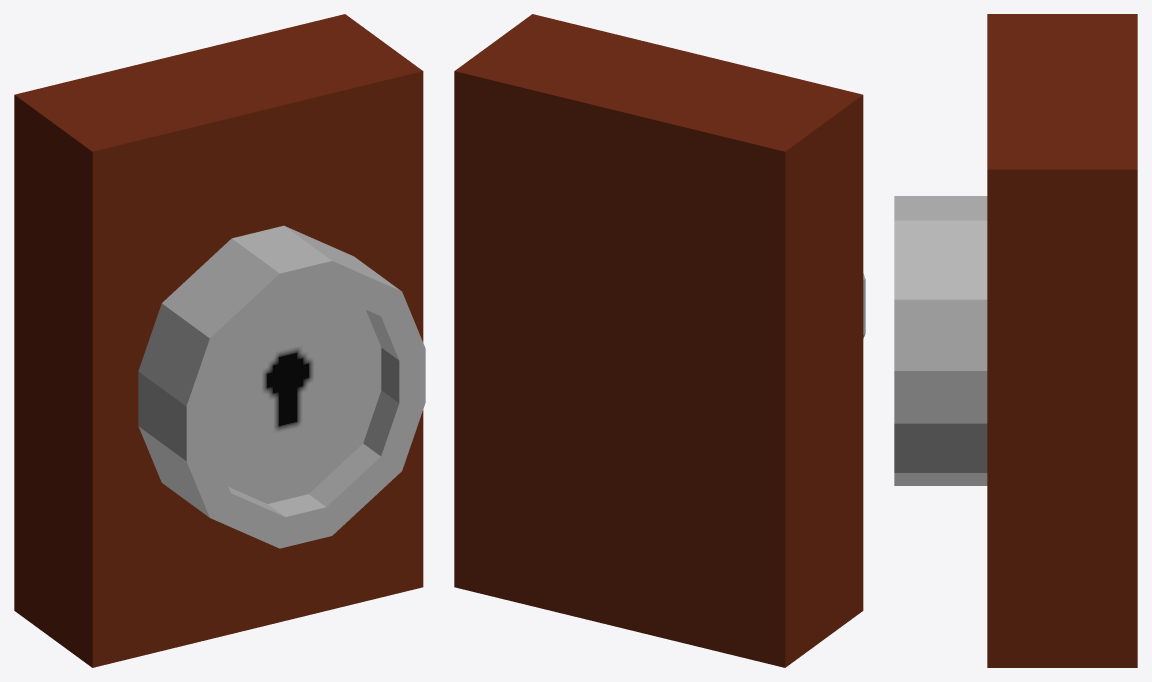
Rendered from lock.glb.
3 renders of one model, left to right at view 1: azimuth 30°, elevation 25°; view 2: azimuth 150°, elevation 25°; view 3: azimuth 270°, elevation 25°, orthographic. The views are drawn at different scales.
Visible parts, largest first — view 1: Cube; view 2: Cube; view 3: Cube.
Part boxes in pixels (x1,y1,x2,y2): Cube: [14, 14, 425, 667]; Cube: [454, 14, 865, 667]; Cube: [894, 14, 1137, 667].
Bounding box in the file's own units: 0.0421 × 0.0629 × 0.0279.
Materials: 1 (1 with a texture image).
